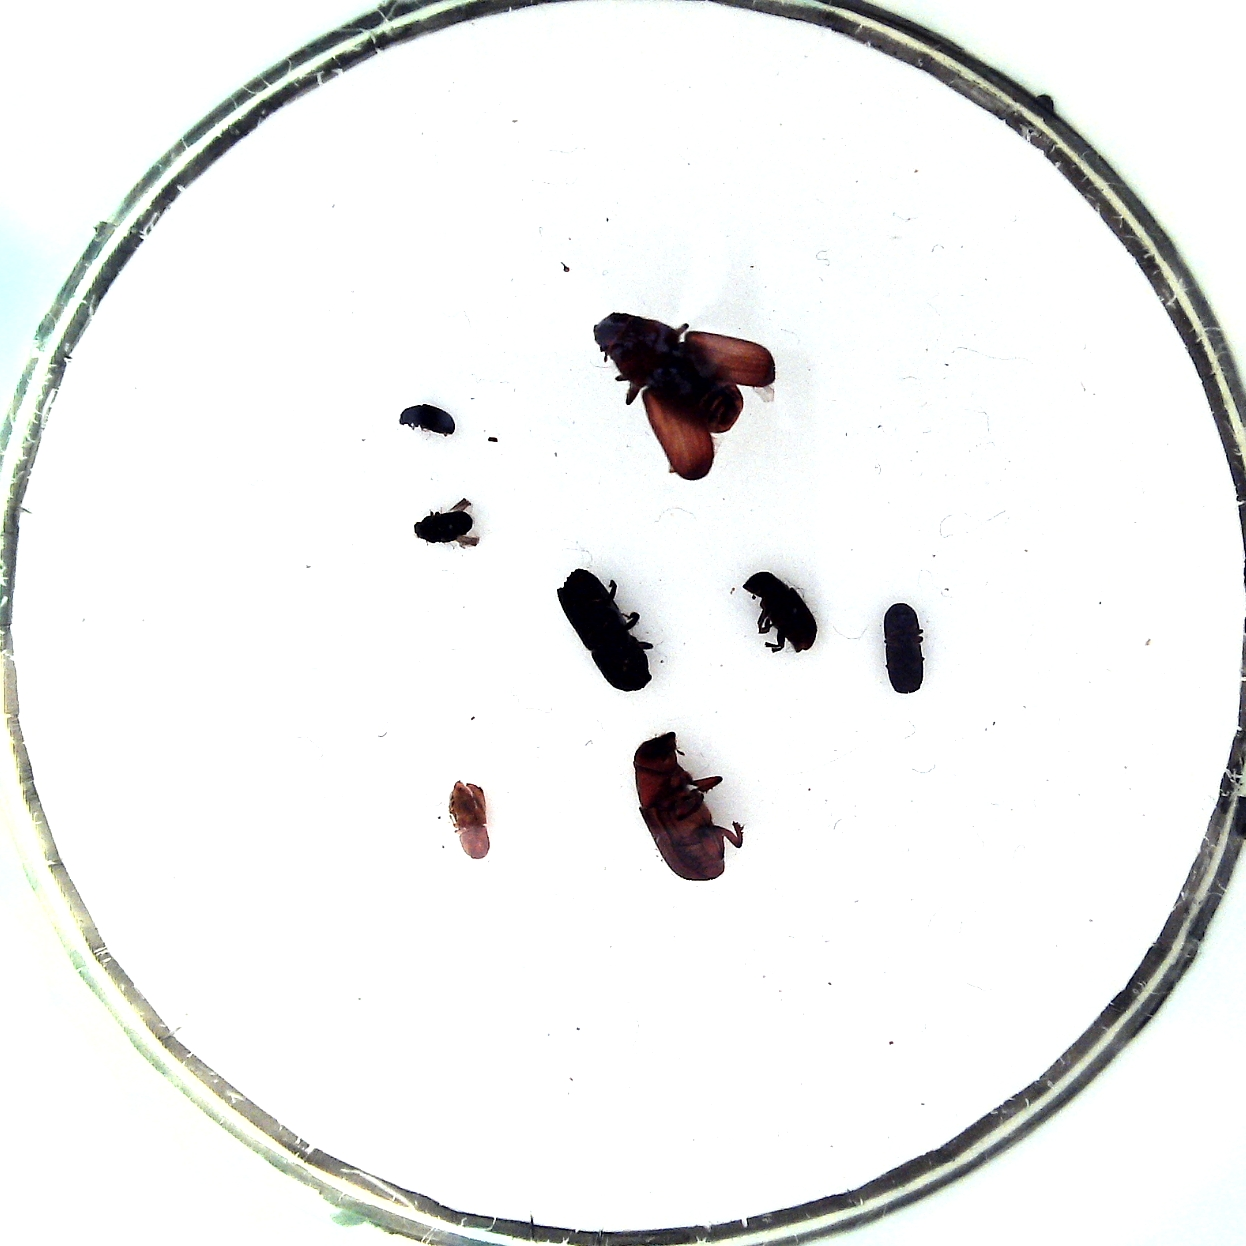Boerner: (556, 568, 653, 691)
Leconte: (592, 311, 743, 434), (633, 731, 727, 881)
acuminatus: (414, 509, 474, 543)
armandi: (743, 571, 818, 652)
coleoptera: (448, 779, 489, 859), (399, 404, 456, 436)
linnaeus: (884, 602, 924, 694)
